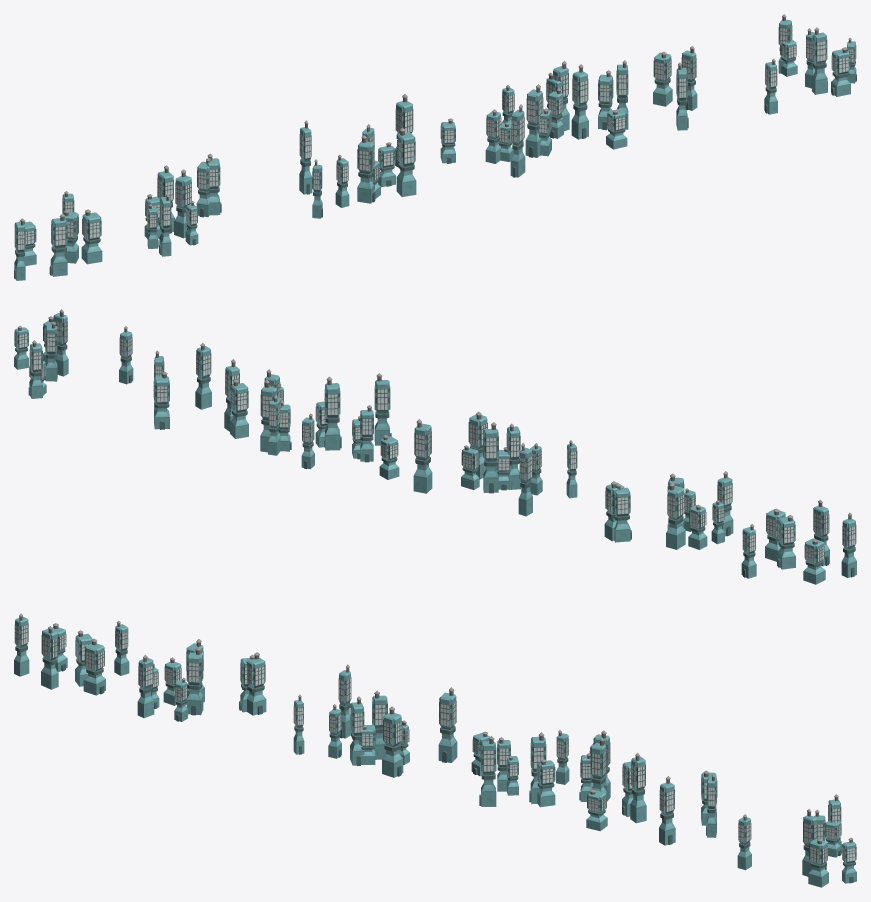
Rendered from HeroCirtyAreaFlat.fbx.
3 renders of one model, top to bottom at view 1: azimuth 30°, elevation 25°; view 2: azimuth 150°, elevation 25°; view 3: azimuth 330°, elevation 25°, orthographic.
Visible parts, largest first — view 1: HeroPlane; view 2: HeroPlane; view 3: HeroPlane.
Boxes of the visible parts, box(x1,y1,x2,y2) form: HeroPlane: box(14, 14, 856, 280); HeroPlane: box(14, 309, 856, 584); HeroPlane: box(14, 613, 856, 887).
Bounding box in the file's own units: 4572 × 369 × 478.
Materials: 1 (1 with a texture image).
